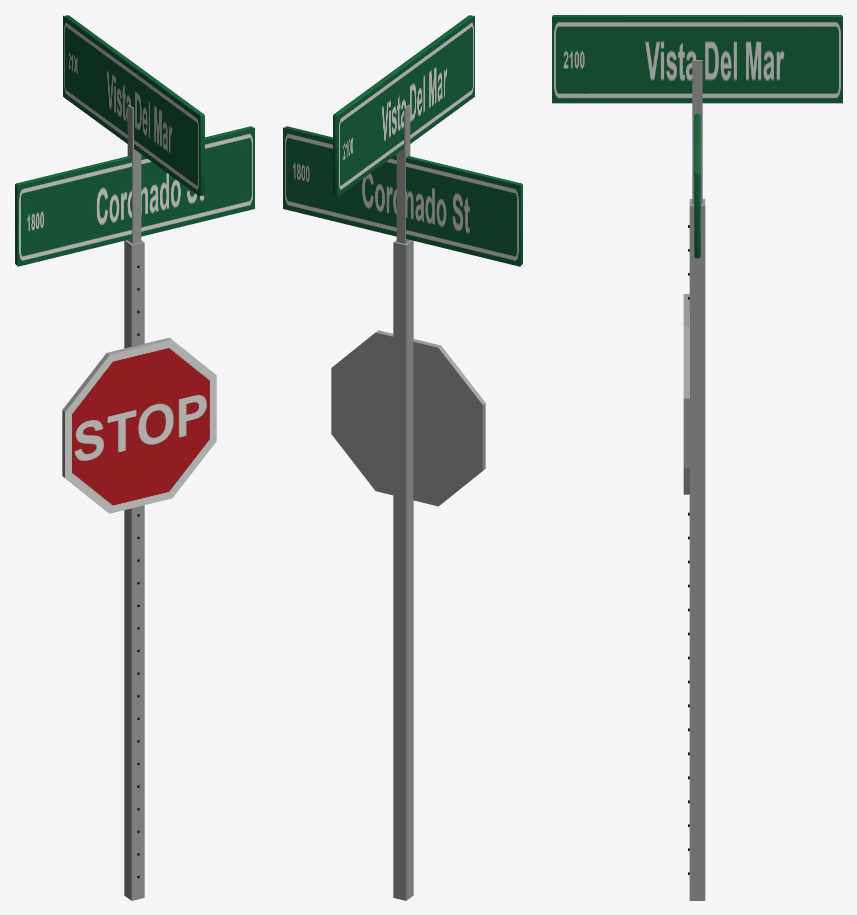
Rendered from sign_stop_corner.glb.
3 renders of one model, left to right at view 1: azimuth 30°, elevation 25°; view 2: azimuth 150°, elevation 25°; view 3: azimuth 270°, elevation 25°, orthographic. The views are drawn at different scales.
Visible parts, largest first — view 1: body; view 2: body; view 3: body.
Part boxes in pixels (box(x1,y1,x2,y2)): body: box(15, 15, 254, 900); body: box(283, 15, 522, 900); body: box(552, 15, 842, 900).
Bounding box in the file's own units: 1.1 × 3.68 × 1.1.
5 materials, 2 textured.
